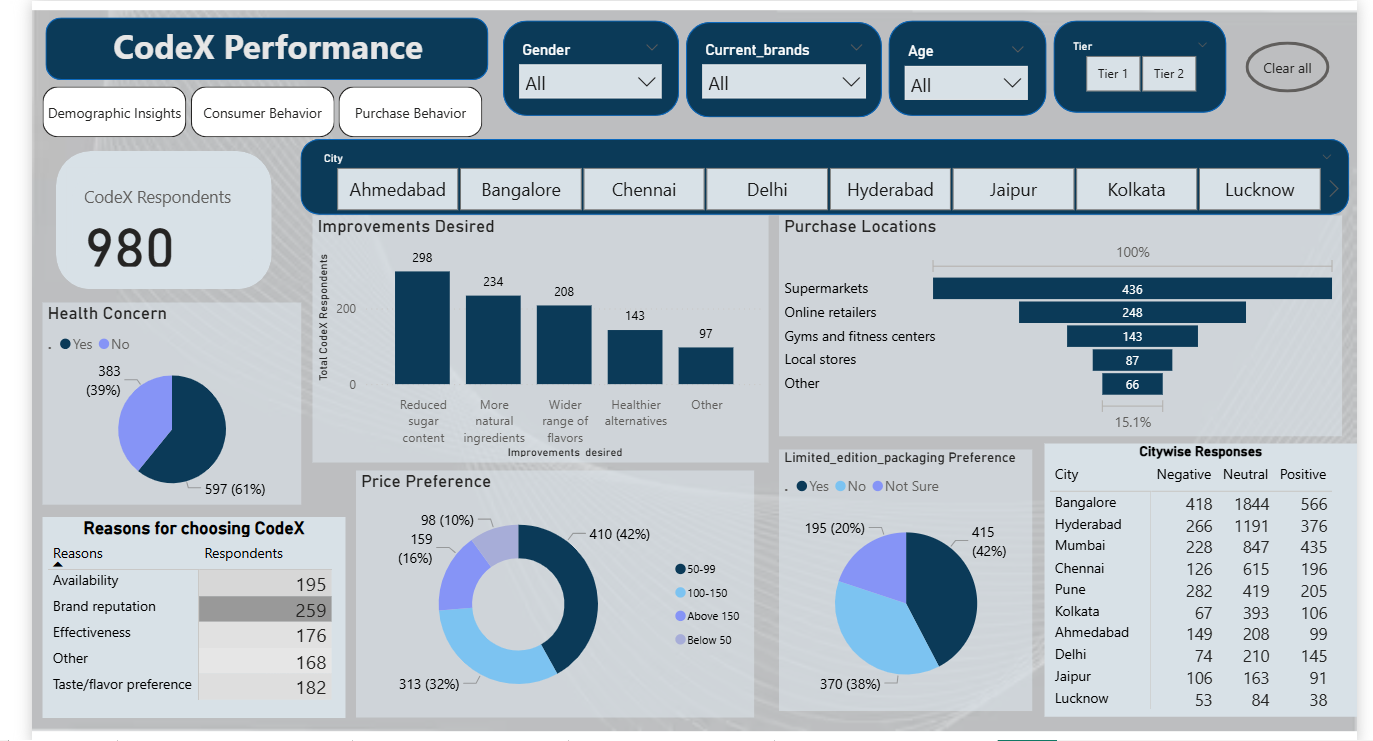

The dashboard page shown, as its layout file describes it:
{"tool":"powerbi","page":{"name":"CodeX Performance ","canvas":[1280,720],"ordinal":4},"visuals":[{"type":"shape","box":[23.9,145.3,208.4,133.6],"z":0},{"type":"shape","box":[259.3,133.6,1013.2,73.2],"z":1000},{"type":"funnel","title":"Purchase Locations","fields":{"Category":["fact_survey.Purchase_location"],"Y":["fact_survey.Total CodeX Respondents"]},"box":[722.1,206.8,544,213.1],"z":2000},{"type":"slicer","title":"CITY","fields":{"Values":["Dim_cities.City"]},"box":[270.4,141.6,995.7,65.2],"z":3000},{"type":"cardVisual","title":" CodeX Respondents","fields":{"Data":["fact_survey.Total CodeX Respondents"]},"box":[32.9,160.7,192.5,101.8],"z":4000},{"type":"pieChart","title":"Limited_edition_packaging Preference","fields":{"Category":["fact_survey.Limited_edition_packaging"],"Y":["fact_survey.Total CodeX Respondents"]},"box":[722.1,432.6,245,252.9],"z":13000},{"type":"pieChart","title":"Price Preference ","fields":{"Y":["fact_survey.Total CodeX Respondents"],"Category":["fact_survey.Price_range"]},"box":[313.4,453.3,384.9,238.6],"z":14000},{"type":"pivotTable","title":"Citywise Responses","fields":{"Values":["CountNonNull(fact_survey.Response_ID)"],"Columns":["fact_survey.Brand_perception"],"Rows":["Dim_cities.City"]},"box":[978.2,427.9,302.2,264],"z":15000},{"type":"pieChart","title":"Health Concern","fields":{"Y":["fact_survey.Total CodeX Respondents"],"Category":["fact_survey.Health_concerns"]},"box":[9.5,291.1,249.7,195.6],"z":16000},{"type":"columnChart","title":"Improvements Desired","fields":{"Category":["fact_survey.Improvements_desired"],"Y":["fact_survey.Total CodeX Respondents"]},"box":[270.4,206.8,440.6,238.6],"z":17000},{"type":"pivotTable","title":"Reasons for choosing CodeX","fields":{"Rows":["fact_survey.Reasons_for_choosing_brands"],"Values":["fact_survey.Total CodeX Respondents"]},"box":[9.5,497.9,292.7,194.1],"z":18000},{"type":"pageNavigator","box":[9.5,82.7,427.9,49.3],"z":19000},{"type":"shape","box":[12.7,15.9,427.9,60.4],"z":20000},{"type":"textbox","box":[17.5,15.9,421.5,60.4],"z":21000},{"type":"shape","box":[454.9,19.1,170.2,92.3],"z":21001},{"type":"shape","box":[827.1,19.1,152.7,92.3],"z":21002},{"type":"slicer","fields":{"Values":["dim_respondent.Age"]},"box":[833.5,35,138.4,62],"z":21003},{"type":"slicer","fields":{"Values":["dim_respondent.Gender"]},"box":[461.3,33.4,157.5,62],"z":21004},{"type":"shape","box":[631.5,20.7,189.3,92.3],"z":21005},{"type":"slicer","fields":{"Values":["fact_survey.Current_brands"]},"box":[637.8,33.4,178.1,62],"z":21006},{"type":"shape","box":[986.7,19.1,167,89.1],"z":21007},{"type":"slicer","title":"CITY","fields":{"Values":["Dim_cities.Tier"]},"box":[993.1,31.8,155.9,62],"z":21008},{"type":"actionButton","box":[1172.3,39.8,81.1,49.3],"z":21009}]}

Visuals, with their boxes on the page's 1280x720 design canvas (x1, y1, x2, y2). These are canvas units, not pixel positions in the 1373x741 screenshot, which may show the page scaled, cropped or inside an application window:
shape: <region>24, 145, 232, 279</region>
shape: <region>259, 134, 1272, 207</region>
"Purchase Locations" funnel: <region>722, 207, 1266, 420</region>
"CITY" slicer: <region>270, 142, 1266, 207</region>
" CodeX Respondents" cardVisual: <region>33, 161, 225, 262</region>
"Limited_edition_packaging Preference" pieChart: <region>722, 433, 967, 686</region>
"Price Preference " pieChart: <region>313, 453, 698, 692</region>
"Citywise Responses" pivotTable: <region>978, 428, 1280, 692</region>
"Health Concern" pieChart: <region>10, 291, 259, 487</region>
"Improvements Desired" columnChart: <region>270, 207, 711, 445</region>
"Reasons for choosing CodeX" pivotTable: <region>10, 498, 302, 692</region>
pageNavigator: <region>10, 83, 437, 132</region>
shape: <region>13, 16, 441, 76</region>
textbox: <region>18, 16, 439, 76</region>
shape: <region>455, 19, 625, 111</region>
shape: <region>827, 19, 980, 111</region>
slicer - dim_respondent.Age: <region>834, 35, 972, 97</region>
slicer - dim_respondent.Gender: <region>461, 33, 619, 95</region>
shape: <region>632, 21, 821, 113</region>
slicer - fact_survey.Current_brands: <region>638, 33, 816, 95</region>
shape: <region>987, 19, 1154, 108</region>
"CITY" slicer: <region>993, 32, 1149, 94</region>
actionButton: <region>1172, 40, 1253, 89</region>
